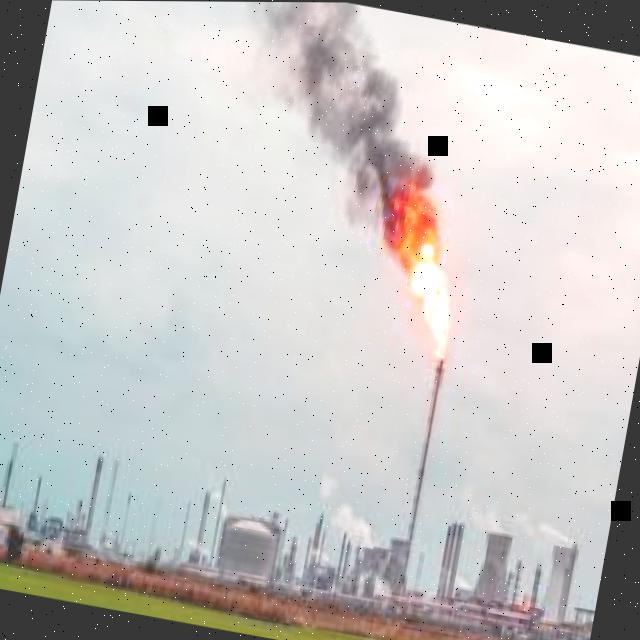fire: (384, 179, 450, 357)
smoke: (248, 1, 434, 239)
